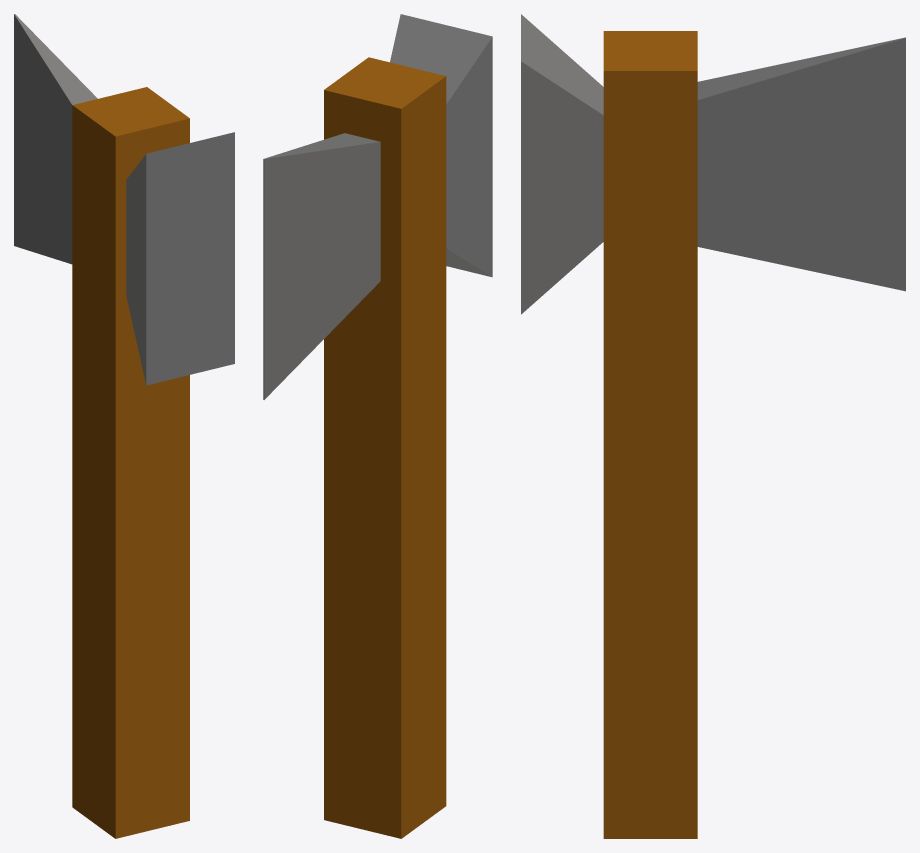
Rendered from Axe.obj.
3 views of the same model, side by side, from view 1: azimuth 30°, elevation 25°; view 2: azimuth 150°, elevation 25°; view 3: azimuth 270°, elevation 25° (orthographic). The views are drawn at different scales.
Visible parts, largest first — view 1: Axe_handle, Axe_blade; view 2: Axe_handle, Axe_blade; view 3: Axe_handle, Axe_blade.
Part boxes in pixels (bbox=[...]): Axe_handle: bbox=[72, 87, 189, 838]; Axe_blade: bbox=[14, 14, 234, 385]; Axe_handle: bbox=[324, 57, 446, 838]; Axe_blade: bbox=[263, 14, 492, 399]; Axe_handle: bbox=[603, 31, 697, 838]; Axe_blade: bbox=[521, 14, 905, 314].
Bounding box in the file's own units: 0.2375 × 1.83 × 0.8174.
2 materials, 2 textured.
